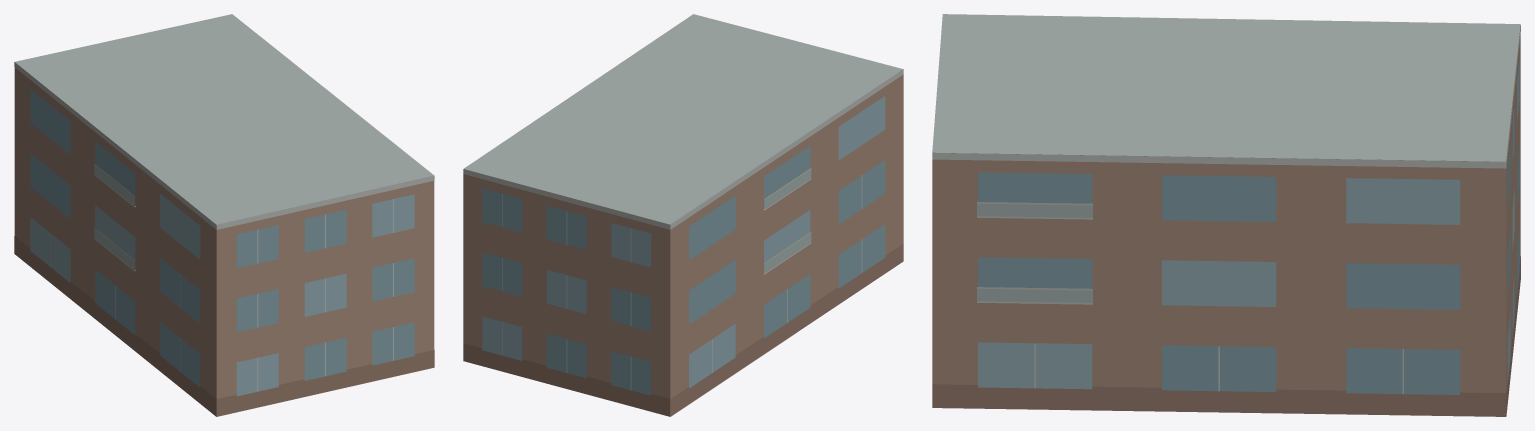
Rendered from survey-upis-32655540.glb.
The picture shows the model from 3 angles, left to right: view 1: azimuth 30°, elevation 25°; view 2: azimuth 150°, elevation 25°; view 3: azimuth 270°, elevation 25°; orthographic projection. The views are drawn at different scales.
Parts seen in each view (by area): view 1: survey-upis-32655540.tmp; view 2: survey-upis-32655540.tmp; view 3: survey-upis-32655540.tmp.
Part boxes in pixels (x1,y1,x2,y2): survey-upis-32655540.tmp: (14, 14, 434, 416); survey-upis-32655540.tmp: (463, 14, 903, 416); survey-upis-32655540.tmp: (932, 14, 1520, 416).
Size of the model in its own units: 11.37 by 9.15 by 19.14.
